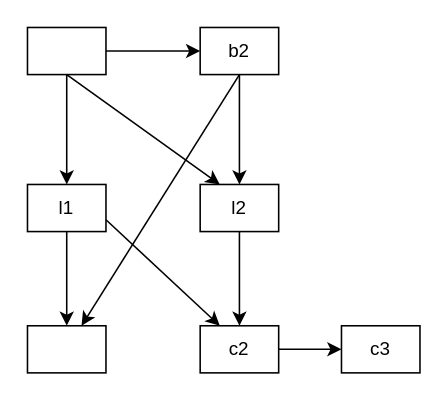
Some shapes in this 447 by 400 pixel diagram are drawn without their labels. Each missing label, with the centre of its shape:
"b1" belongs at [66,50].
"c1" belongs at [66,348].
